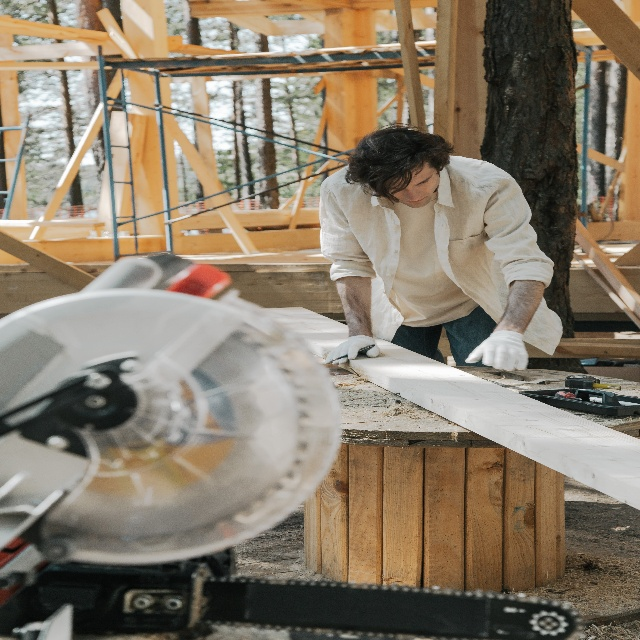Guantes: (464, 330, 529, 372), (325, 334, 380, 365)
